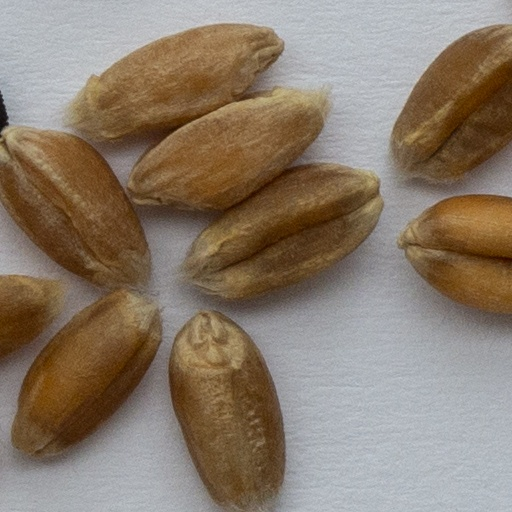Agrostemma-poly: (0, 82, 82, 134)
